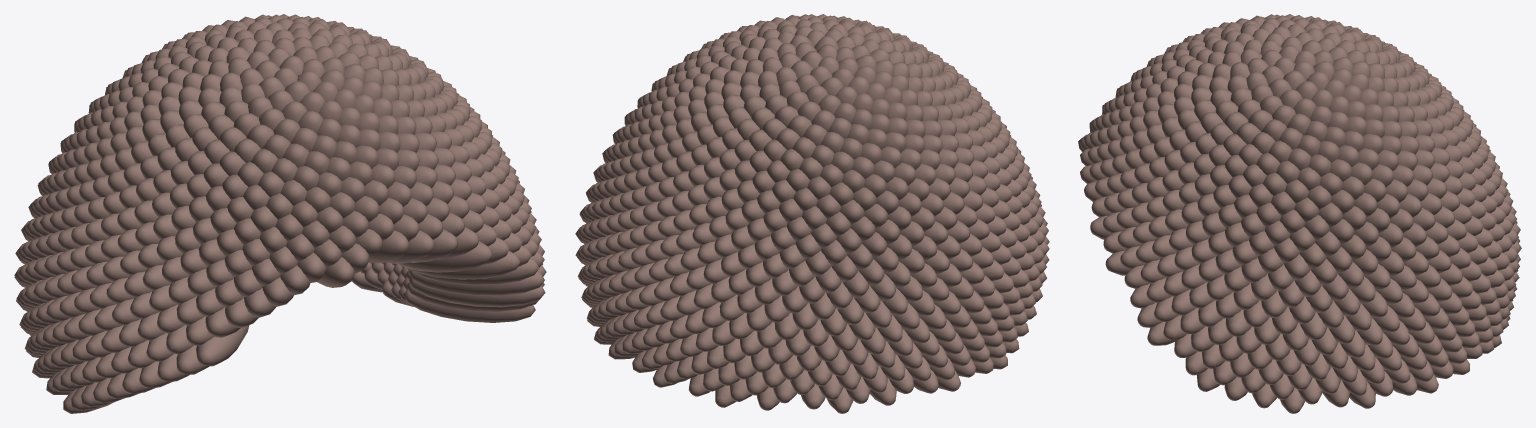
File: jumbo.glb
3 renders of one model, left to right at view 1: azimuth 30°, elevation 25°; view 2: azimuth 150°, elevation 25°; view 3: azimuth 270°, elevation 25°, orthographic. The views are drawn at different scales.
Visible parts, largest first — view 1: Hair_0825, Hair_0701, Hair_0740, Hair_0540, Hair_0602, Hair_0671, Hair_0660, Hair_0432, Hair_0453, Hair_0478, Hair_0791, Hair_0473 (+42 smaller); view 2: Hair_0698, Hair_0683, Hair_0677, Hair_0692, Hair_0642, Hair_0667, Hair_0708, Hair_0651; view 3: Hair_0697, Hair_0682, Hair_0687, Hair_0656, Hair_0672, Hair_0646, Hair_0703, Hair_0631, Hair_0662, Hair_0666, Hair_0712, Hair_0707 (+48 smaller).
Boxes of the visible parts, x1,y1,x2,y2 form: Hair_0825: [403, 289, 535, 322]; Hair_0701: [408, 270, 544, 296]; Hair_0740: [409, 277, 545, 307]; Hair_0540: [398, 241, 491, 272]; Hair_0602: [407, 251, 519, 279]; Hair_0671: [196, 325, 249, 366]; Hair_0660: [411, 258, 539, 285]; Hair_0432: [369, 230, 408, 263]; Hair_0453: [387, 230, 434, 263]; Hair_0478: [317, 257, 354, 287]; Hair_0791: [406, 282, 538, 311]; Hair_0473: [411, 229, 457, 262]; Hair_0698: [849, 312, 875, 340]; Hair_0683: [820, 308, 846, 336]; Hair_0677: [746, 305, 772, 331]; Hair_0692: [774, 313, 800, 339]; Hair_0642: [809, 292, 835, 320]; Hair_0667: [792, 303, 818, 330]; Hair_0708: [803, 319, 828, 346]; Hair_0651: [764, 296, 789, 322]; Hair_0697: [1254, 317, 1279, 344]; Hair_0682: [1225, 310, 1251, 336]; Hair_0687: [1300, 312, 1326, 340]; Hair_0656: [1243, 300, 1269, 327]; Hair_0672: [1272, 307, 1297, 334]; Hair_0646: [1289, 296, 1315, 324]; Hair_0703: [1329, 316, 1354, 343]; Hair_0631: [1261, 290, 1286, 317]; Hair_0662: [1317, 301, 1343, 328]; Hair_0666: [1198, 300, 1223, 326]; Hair_0712: [1282, 323, 1308, 350]; Hair_0707: [1208, 318, 1232, 344].
Bounding box in the file's own units: 3.21 × 2.19 × 2.99.
